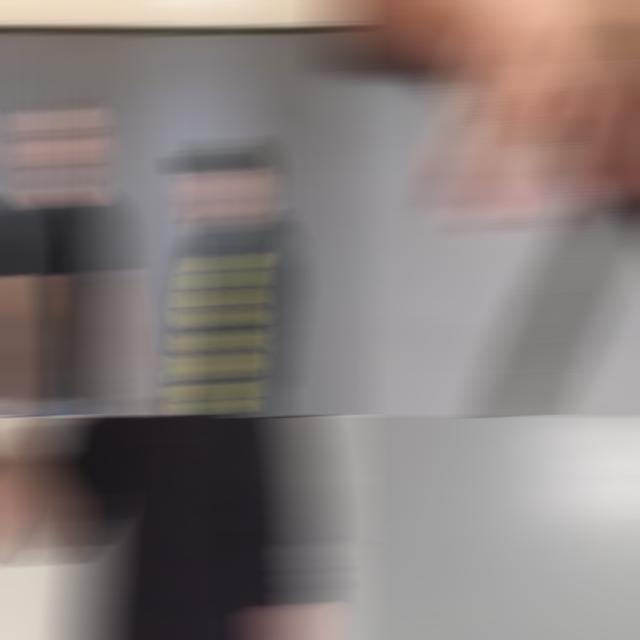Knife: (480, 207, 640, 416)
Knife_Handle: (472, 24, 640, 416)
